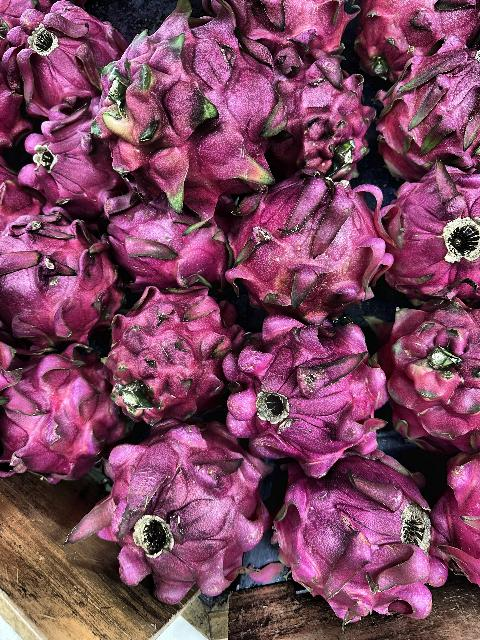buah-naga-matang: (91, 22, 281, 198), (81, 430, 268, 602), (268, 444, 444, 618), (222, 312, 394, 470), (228, 172, 389, 312), (0, 356, 138, 494), (105, 290, 241, 428), (0, 210, 126, 344), (376, 294, 480, 454), (255, 45, 376, 177), (372, 161, 480, 303), (92, 186, 232, 288), (376, 42, 480, 176), (3, 0, 126, 111), (23, 100, 132, 216), (208, 0, 358, 58), (354, 0, 480, 62)
